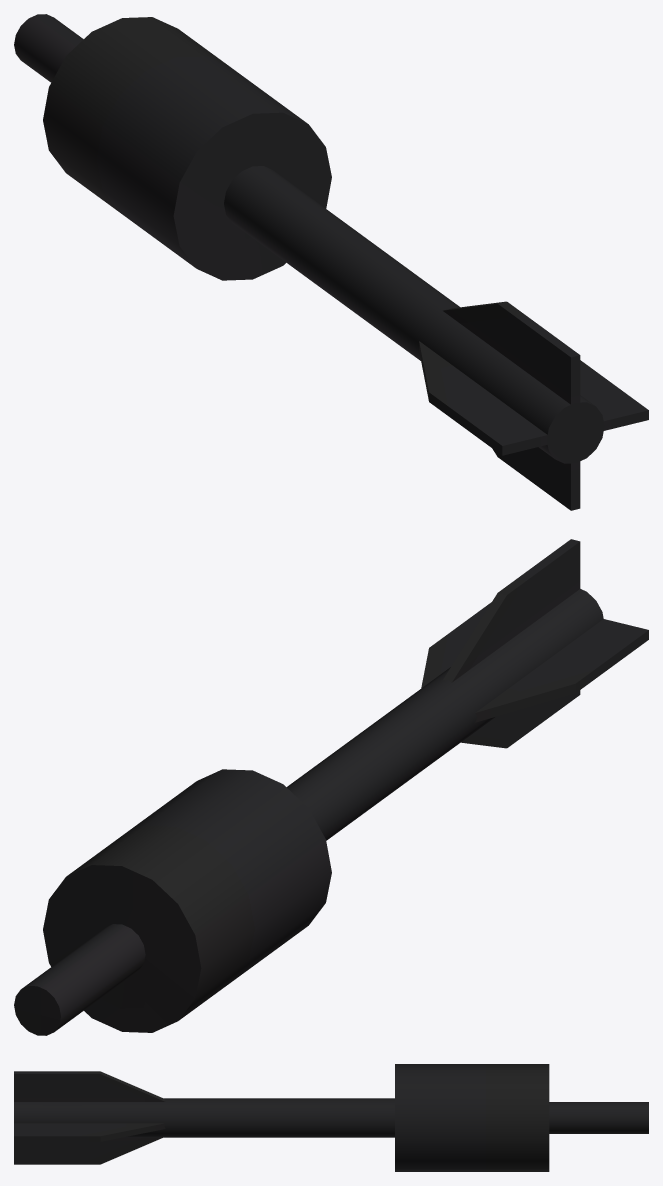
Rendered from heat_bullet_m456a2.fbx.
The picture shows the model from 3 angles, top to bottom: view 1: azimuth 30°, elevation 25°; view 2: azimuth 150°, elevation 25°; view 3: azimuth 270°, elevation 25°; orthographic projection. The views are drawn at different scales.
Visible parts, largest first — view 1: Cylinder; view 2: Cylinder; view 3: Cylinder.
Boxes of the visible parts, x1=… form: Cylinder: x1=14, y1=14, x2=648, y2=510; Cylinder: x1=14, y1=539, x2=648, y2=1035; Cylinder: x1=14, y1=1064, x2=648, y2=1171.
Bounding box in the file's own units: 84.98 × 84.98 × 500.
